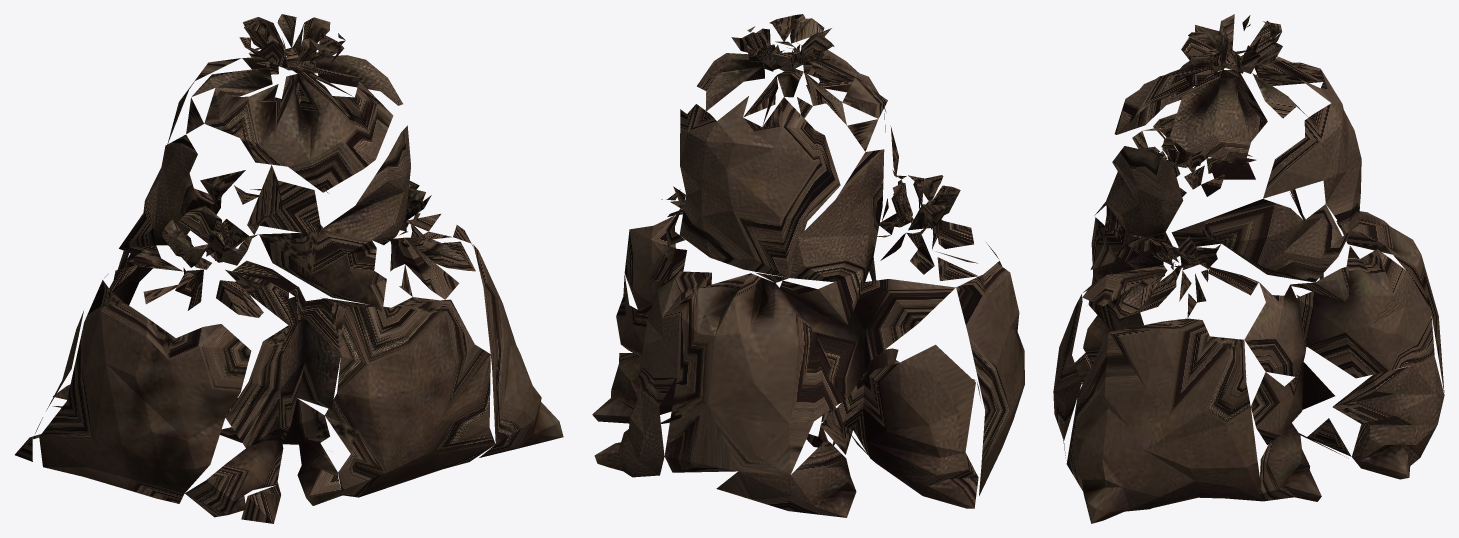
Rendered from prp_sacks_a_LOD1.glb.
3 renders of one model, left to right at view 1: azimuth 30°, elevation 25°; view 2: azimuth 150°, elevation 25°; view 3: azimuth 270°, elevation 25°, orthographic. The views are drawn at different scales.
Parts seen in each view (by area): view 1: geometry_0; view 2: geometry_0; view 3: geometry_0.
Boxes of the visible parts, <box> form: geometry_0: <box>15,14,563,523</box>; geometry_0: <box>592,14,1024,517</box>; geometry_0: <box>1053,14,1444,523</box>.
Size of the model in its own units: 0.9972 by 0.8998 by 0.793.
1 material, 1 textured.
